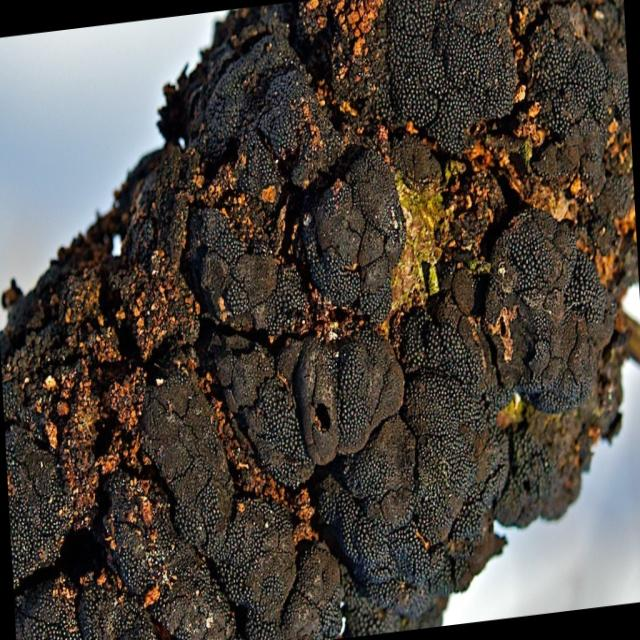Black_knot: (2, 1, 633, 636), (482, 205, 618, 414), (291, 326, 405, 467)
